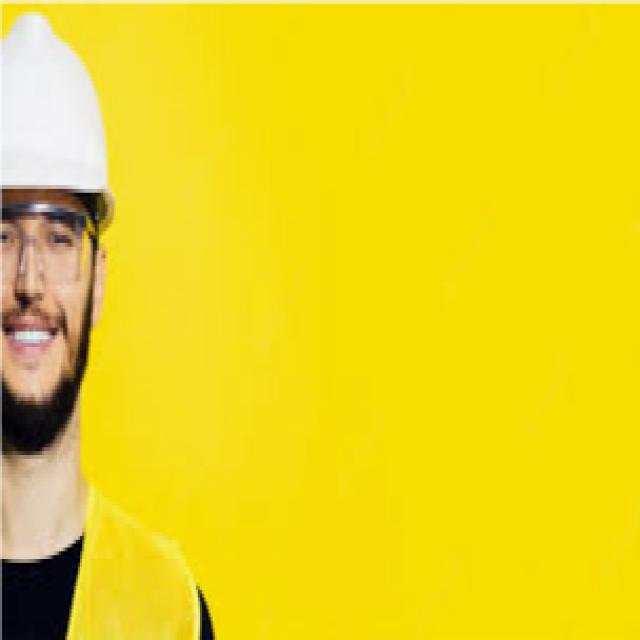glasses: (0, 201, 89, 282)
